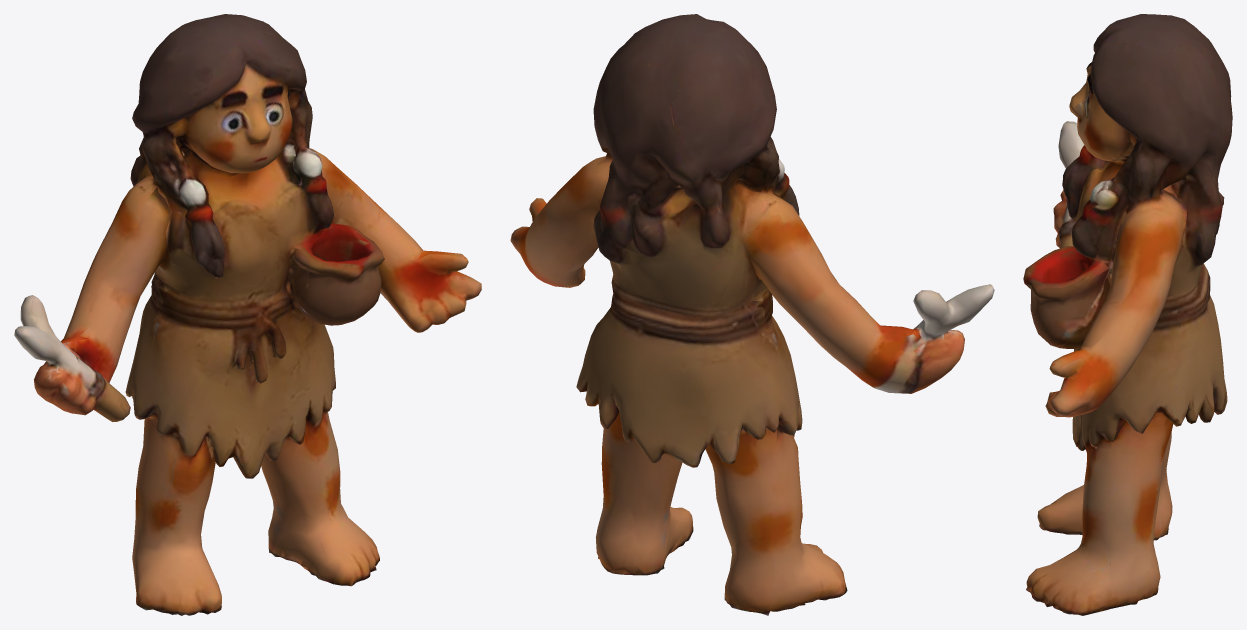
The model's file is char_cave_painter.glb.
The picture shows the model from 3 angles, left to right: view 1: azimuth 30°, elevation 25°; view 2: azimuth 150°, elevation 25°; view 3: azimuth 270°, elevation 25°; orthographic projection. The views are drawn at different scales.
Parts seen in each view (by area): view 1: geometry_0; view 2: geometry_0; view 3: geometry_0.
Part boxes in pixels (box(x1,y1,x2,y2)): geometry_0: box(14, 14, 481, 615); geometry_0: box(510, 14, 994, 615); geometry_0: box(1023, 14, 1232, 615).
Bounding box in the file's own units: 1.6 × 1.78 × 0.6307.
1 material, 1 textured.
